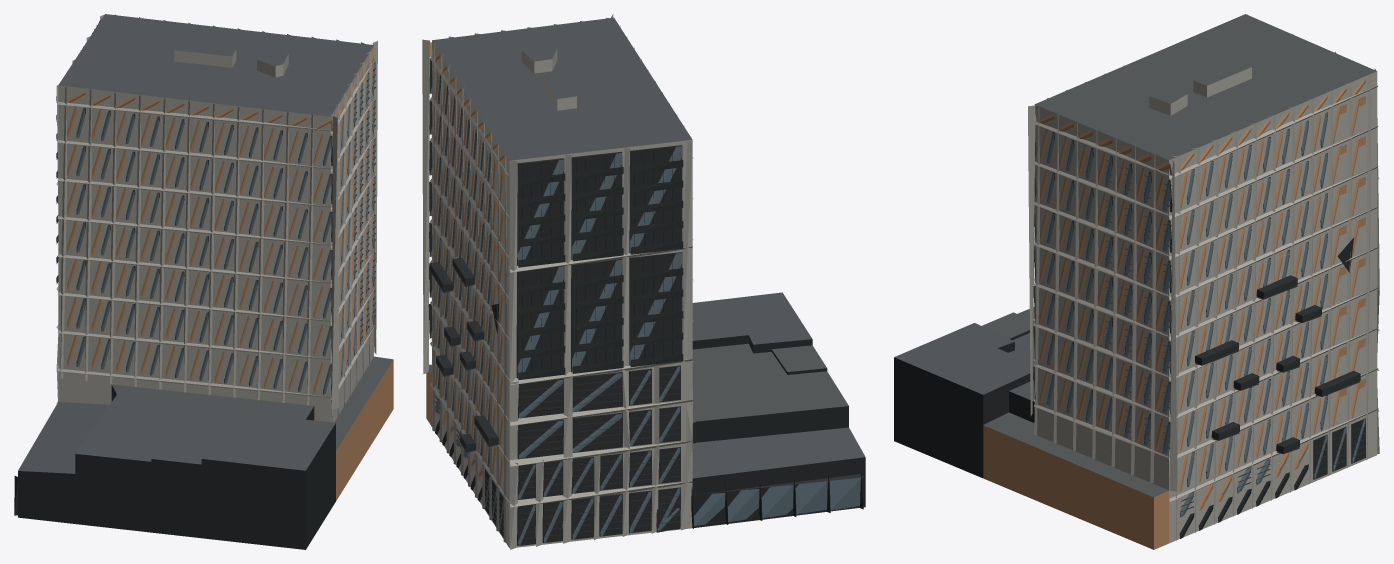
Rendered from voc-kade-600.lod1.glb.
The picture shows the model from 3 angles, left to right: view 1: azimuth 30°, elevation 25°; view 2: azimuth 150°, elevation 25°; view 3: azimuth 270°, elevation 25°; orthographic projection. The views are drawn at different scales.
Visible parts, largest first — view 1: voc-kade-600; view 2: voc-kade-600; view 3: voc-kade-600.
Boxes of the visible parts, x1,y1,x2,y2 form: voc-kade-600: (14, 14, 393, 549); voc-kade-600: (422, 14, 865, 549); voc-kade-600: (894, 14, 1379, 549).
Bounding box in the file's own units: 59.01 × 53.44 × 59.46.
